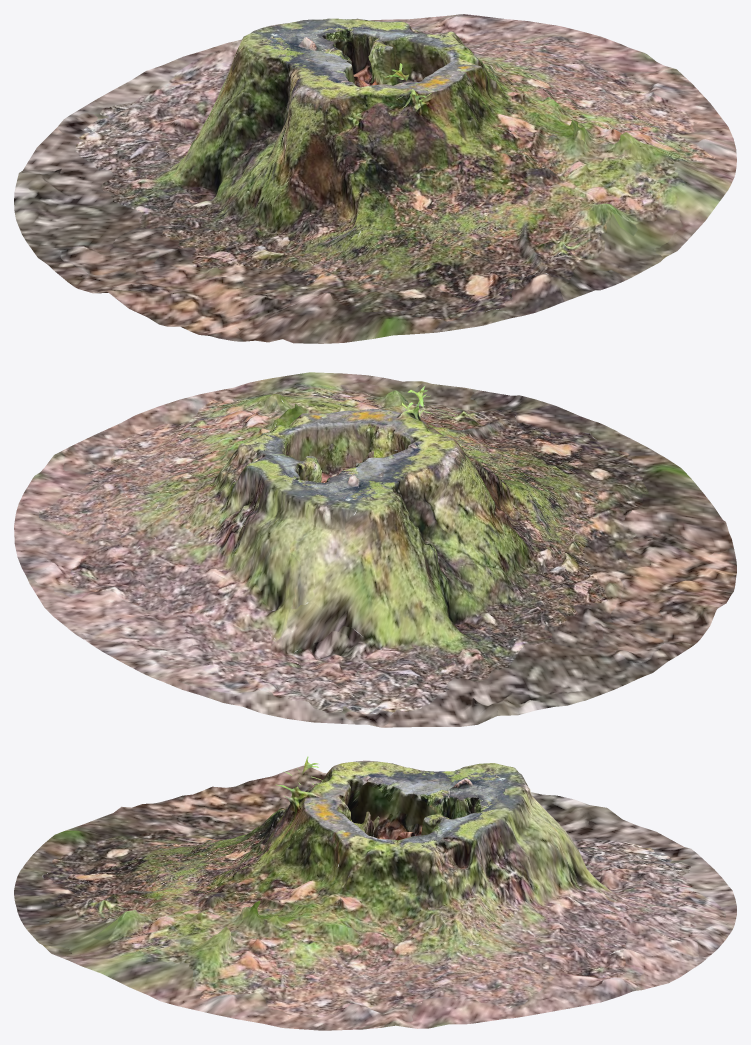
3 renders of one model, top to bottom at view 1: azimuth 30°, elevation 25°; view 2: azimuth 150°, elevation 25°; view 3: azimuth 270°, elevation 25°, orthographic.
Parts seen in each view (by area): view 1: Object_2, Object_3; view 2: Object_3, Object_2; view 3: Object_3, Object_2.
Part boxes in pixels (box(x1,y1,x2,y2)): Object_2: box(57, 18, 686, 321); Object_3: box(14, 14, 736, 343); Object_3: box(14, 372, 736, 727); Object_2: box(68, 382, 639, 727); Object_3: box(14, 765, 736, 1030); Object_2: box(42, 756, 707, 992).
Bounding box in the file's own units: 1.52 × 0.3891 × 1.55.
Materials: 1 (1 with a texture image).
